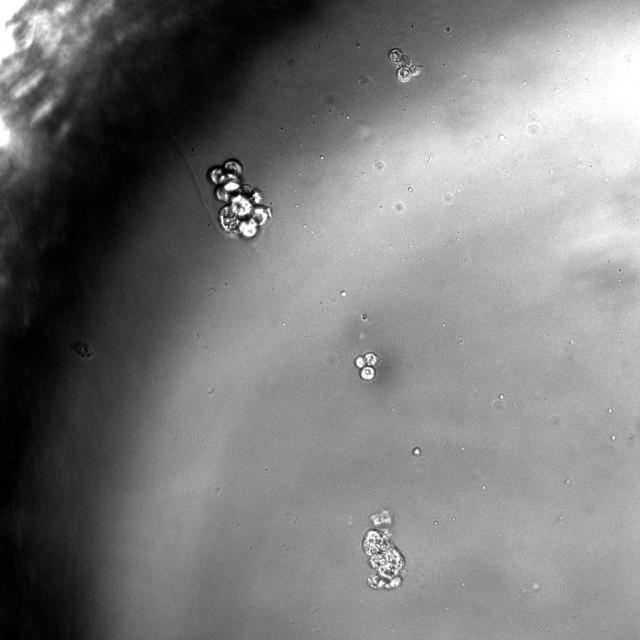organoid: (209, 160, 272, 237), (362, 510, 406, 589), (389, 48, 421, 82), (354, 351, 379, 381)
